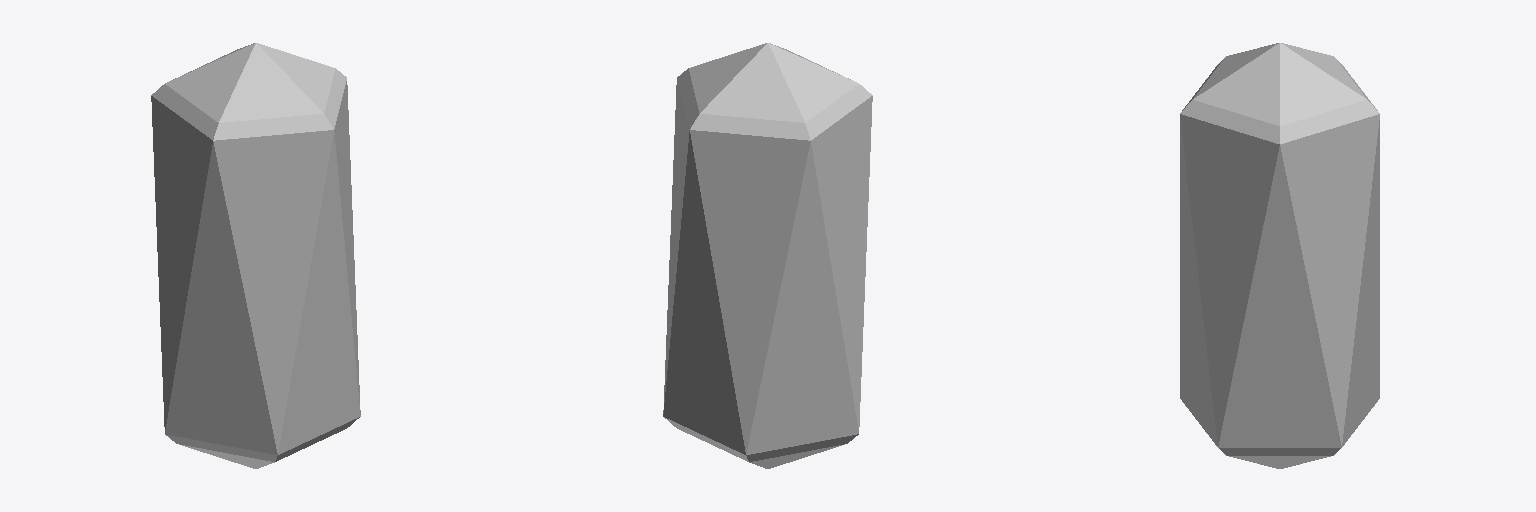
The model's file is Gemstone.obj.
3 renders of one model, left to right at view 1: azimuth 30°, elevation 25°; view 2: azimuth 150°, elevation 25°; view 3: azimuth 270°, elevation 25°, orthographic.
Visible parts, largest first — view 1: Icosphere; view 2: Icosphere; view 3: Icosphere.
Boxes of the visible parts, <box> form: Icosphere: <box>151,43,360,468</box>; Icosphere: <box>663,43,872,468</box>; Icosphere: <box>1180,43,1379,468</box>.
Bounding box in the file's own units: 1.79 × 4 × 1.7.